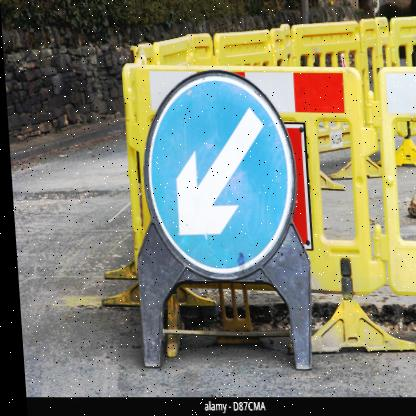Keep left: (137, 70, 295, 277)
